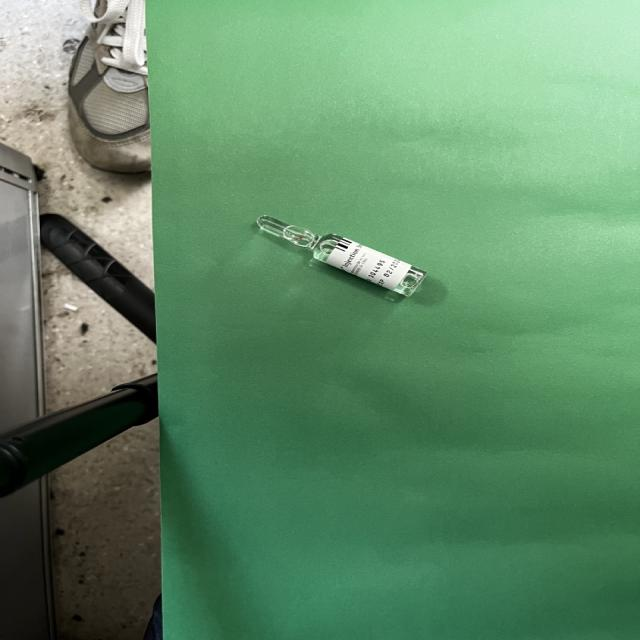Ampoules: (256, 216, 424, 296)
